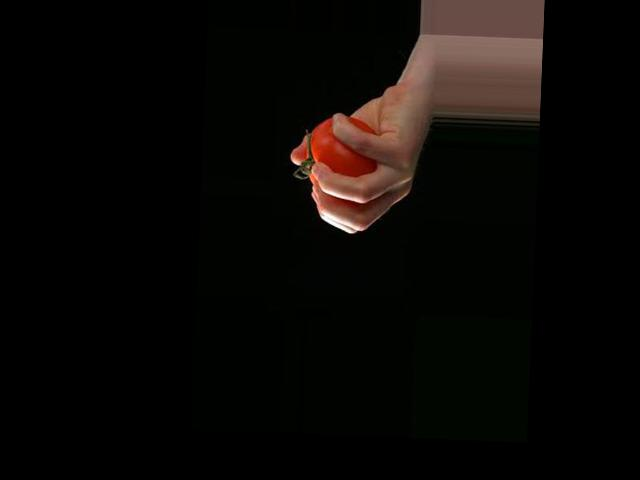tomato: (308, 115, 381, 188)
